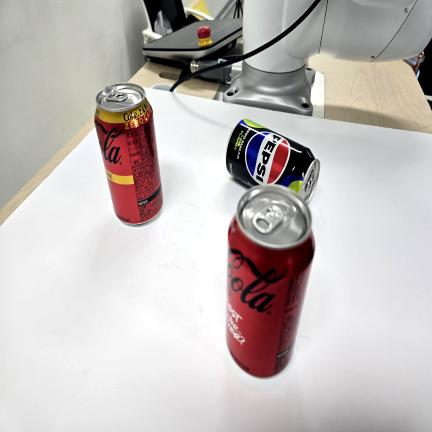can_coke_decaf: (96, 82, 165, 227)
can_coke_zero: (224, 183, 318, 377)
can_pepsi_zero: (224, 119, 320, 211)
